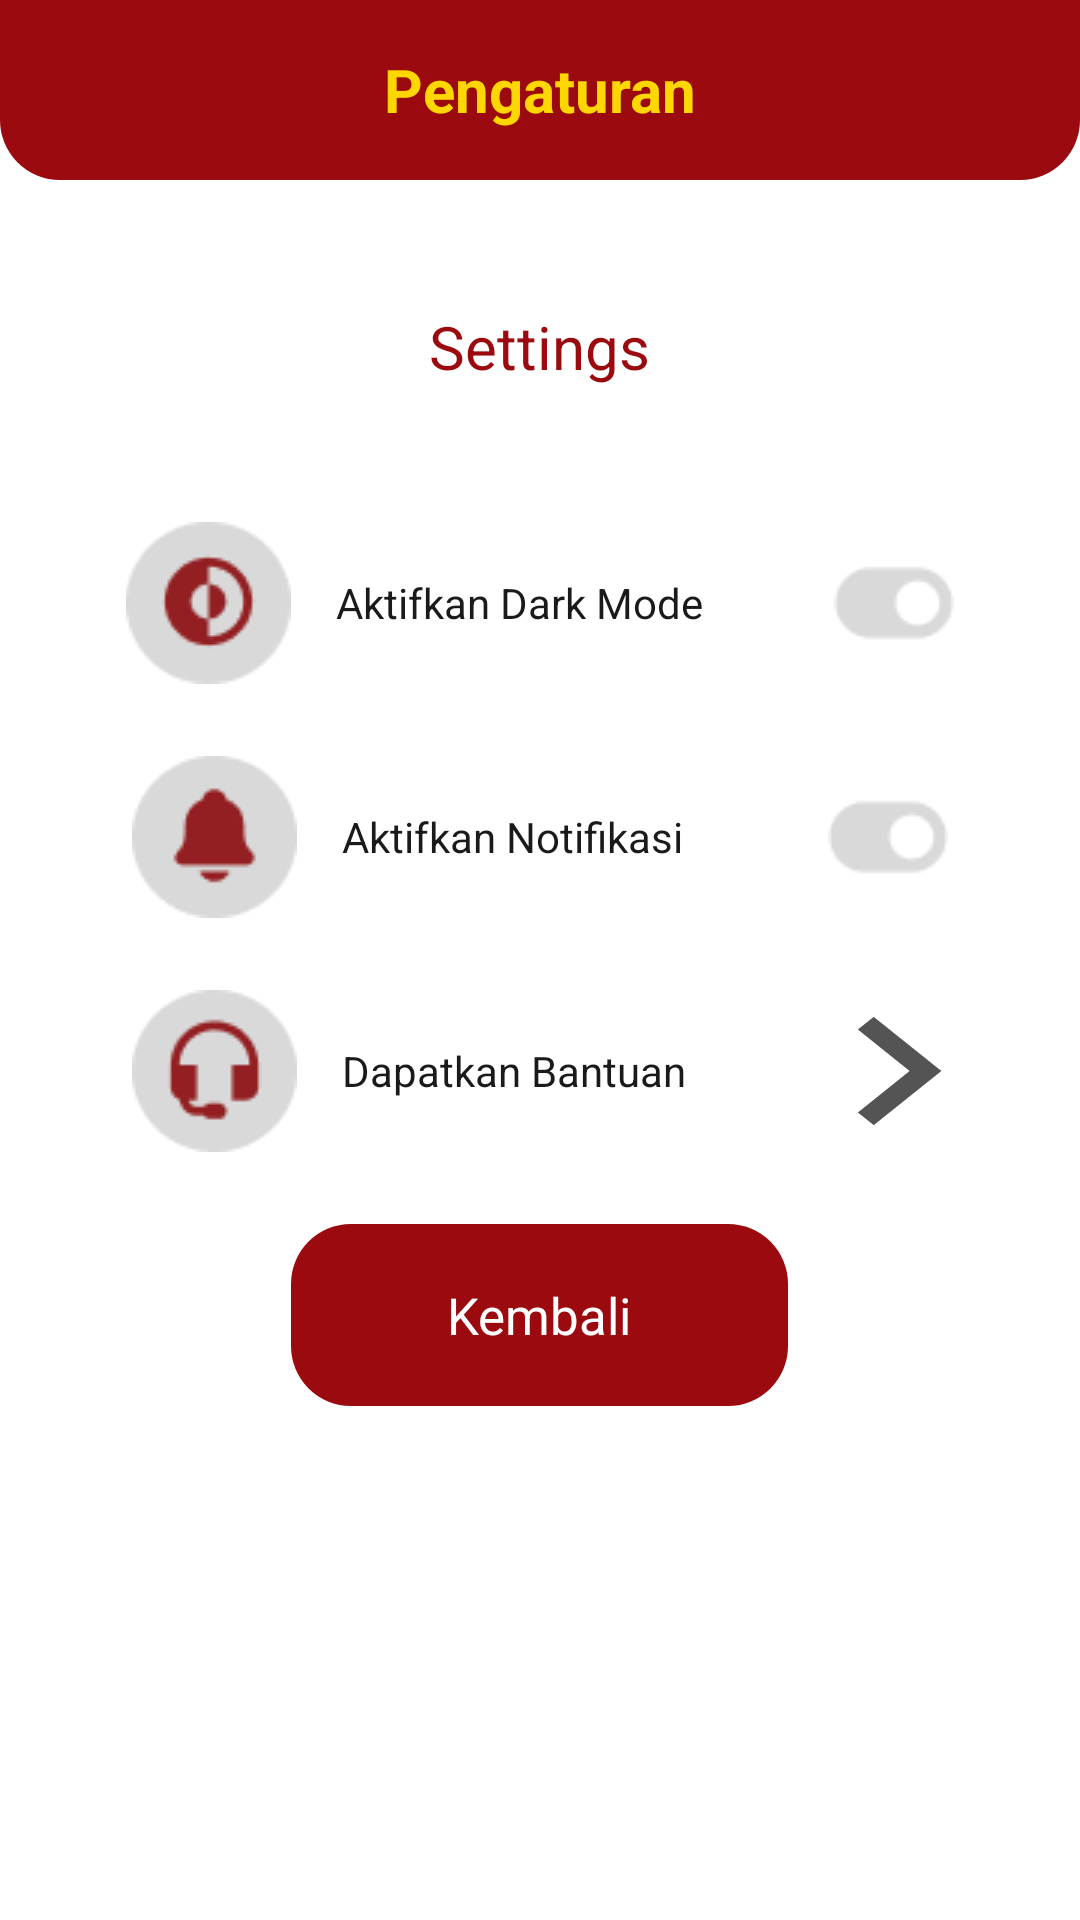

Named icons in this screenshot (1080*1920) and their bounding boxes, bbox(x1, y1, x2, y2):
blackarrow: bbox(858, 1017, 941, 1125)
nightmodeicon: bbox(126, 522, 291, 684)
notification: bbox(132, 756, 297, 918)
servicecenter: bbox(132, 990, 297, 1152)
switchonofficon: bbox(837, 569, 951, 637), bbox(831, 803, 945, 871)
